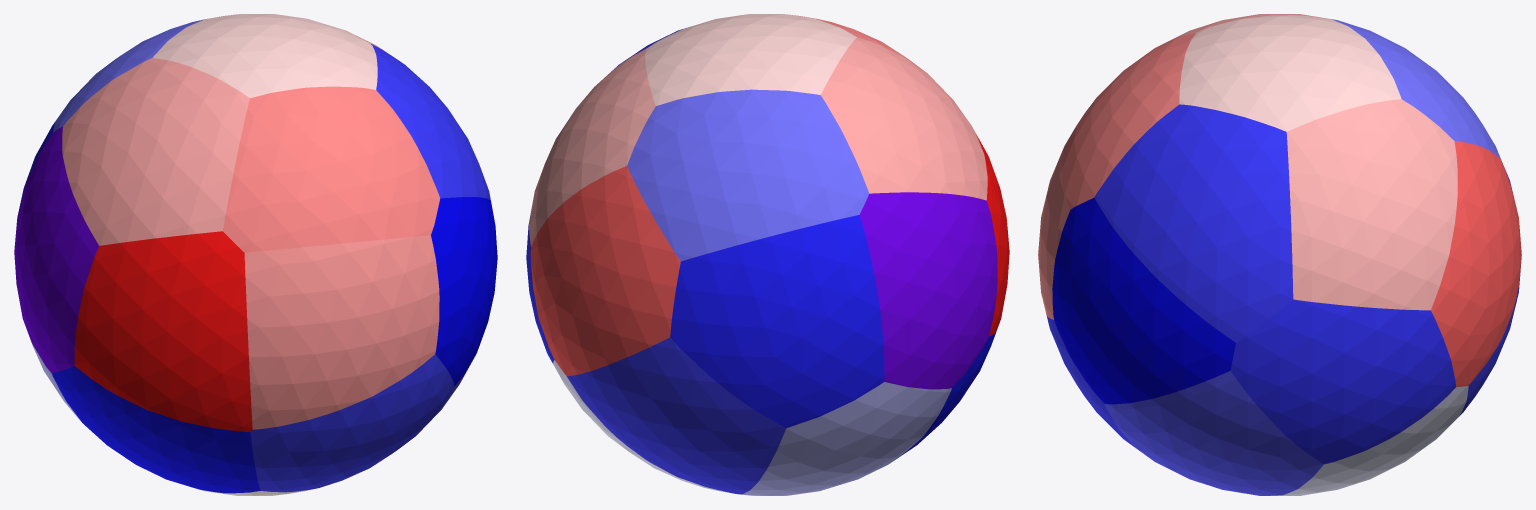
File: Tessellation3DTest.obj
The picture shows the model from 3 angles, left to right: view 1: azimuth 30°, elevation 25°; view 2: azimuth 150°, elevation 25°; view 3: azimuth 270°, elevation 25°; orthographic projection.
Parts seen in each view (by area): view 1: 3D_Object; view 2: 3D_Object; view 3: 3D_Object.
Boxes of the visible parts, <box> form: 3D_Object: <box>14,14,497,495</box>; 3D_Object: <box>526,14,1009,495</box>; 3D_Object: <box>1038,14,1521,495</box>.
Size of the model in its own units: 2 by 2 by 2.
Materials: 1 (1 with a texture image).
